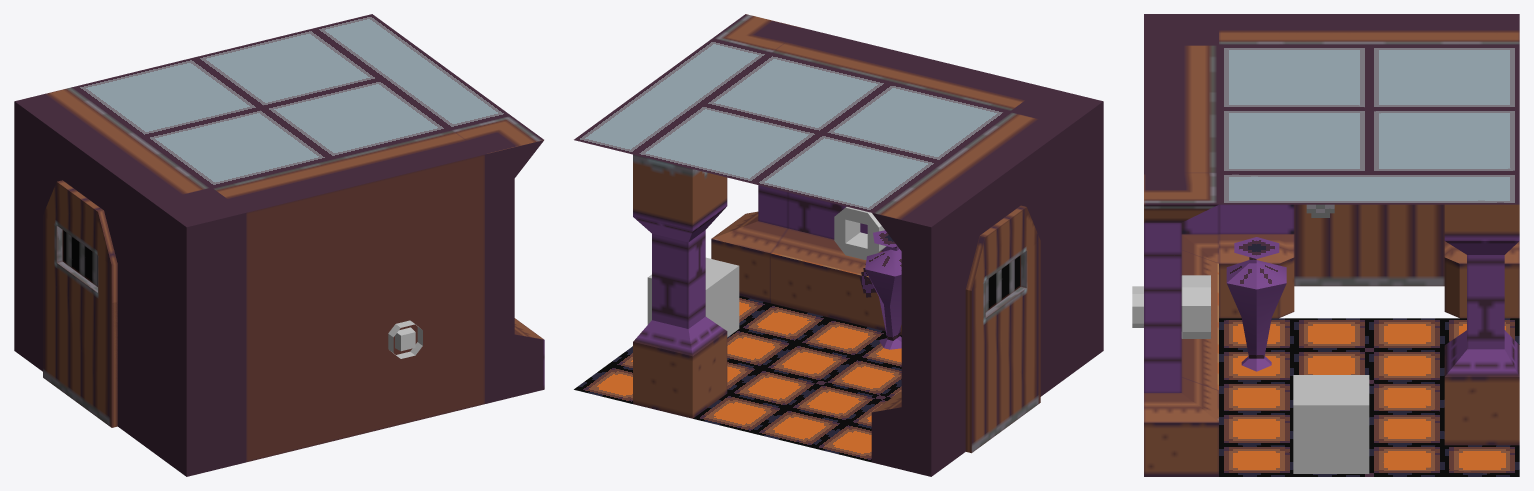
File: MapAssets.fbx
3 renders of one model, left to right at view 1: azimuth 30°, elevation 25°; view 2: azimuth 150°, elevation 25°; view 3: azimuth 270°, elevation 25°, orthographic. The views are drawn at different scales.
Parts seen in each view (by area): view 1: DungeonWall1, DungeonCeiling1, DungeonDoorWall1, DungeonWallInner1, DungeonDoor1, DungeonWallOuter1, DungeonFloorThin1.001, DungeonLeakingPipe1; view 2: DungeonDoorWall1, DungeonCeiling1, DungeonFloor1, DungeonPillar1, DungeonWall1, DungeonDoor1, DungeonWallInner1, DungeonFloorThin1.001, DungeonWallOuter1, DungeonVase1, DungeonBox1, DungeonFloorThin1 (+1 smaller); view 3: DungeonCeiling1, DungeonFloor1, DungeonDoorWall1, DungeonWallOuter1, DungeonPillar1, DungeonWall1, DungeonDoor1, DungeonFloorThin1.001, DungeonBox1, DungeonFloorThin1, DungeonVase1, DungeonWallInner1 (+1 smaller).
Part boxes in pixels (x1=…): DungeonWall1: x1=212, y1=129, x2=484, y2=462; DungeonCeiling1: x1=74, y1=28, x2=449, y2=187; DungeonDoorWall1: x1=14, y1=87, x2=211, y2=451; DungeonWallInner1: x1=152, y1=187, x2=246, y2=476; DungeonDoor1: x1=43, y1=180, x2=117, y2=427; DungeonWallOuter1: x1=451, y1=115, x2=544, y2=403; DungeonFloorThin1.001: x1=313, y1=14, x2=509, y2=129; DungeonLeakingPipe1: x1=388, y1=320, x2=422, y2=358; DungeonDoorWall1: x1=871, y1=112, x2=1068, y2=476; DungeonCeiling1: x1=633, y1=54, x2=1008, y2=212; DungeonFloor1: x1=693, y1=303, x2=901, y2=462; DungeonPillar1: x1=633, y1=154, x2=727, y2=418; DungeonWall1: x1=771, y1=28, x2=1043, y2=335; DungeonDoor1: x1=965, y1=205, x2=1040, y2=453; DungeonWallInner1: x1=1010, y1=87, x2=1103, y2=375; DungeonFloorThin1.001: x1=574, y1=39, x2=770, y2=154; DungeonWallOuter1: x1=711, y1=14, x2=804, y2=303; DungeonVase1: x1=859, y1=230, x2=901, y2=349; DungeonBox1: x1=647, y1=257, x2=739, y2=337; DungeonFloorThin1: x1=574, y1=296, x2=770, y2=403; DungeonCeiling1: x1=1219, y1=45, x2=1519, y2=172; DungeonFloor1: x1=1219, y1=318, x2=1519, y2=445; DungeonDoorWall1: x1=1219, y1=14, x2=1519, y2=318; DungeonWallOuter1: x1=1144, y1=172, x2=1218, y2=476; DungeonPillar1: x1=1444, y1=204, x2=1519, y2=445; DungeonWall1: x1=1144, y1=45, x2=1218, y2=390; DungeonDoor1: x1=1294, y1=204, x2=1444, y2=286; DungeonFloorThin1.001: x1=1219, y1=172, x2=1519, y2=204; DungeonBox1: x1=1293, y1=375, x2=1369, y2=473; DungeonFloorThin1: x1=1219, y1=445, x2=1519, y2=476; DungeonVase1: x1=1226, y1=237, x2=1286, y2=371; DungeonWallInner1: x1=1144, y1=14, x2=1218, y2=263.
Size of the model in its own units: 610 by 400 by 516.
